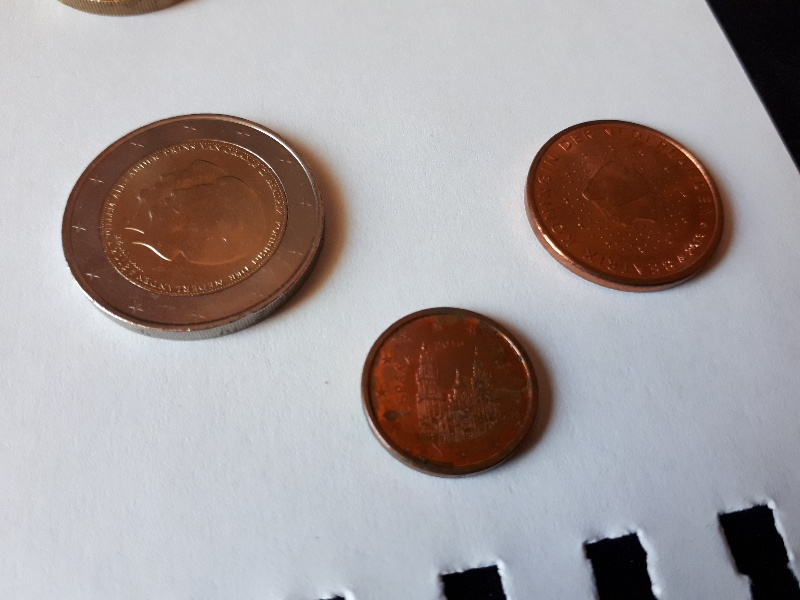2 cent: (359, 300, 550, 484)
2 euro: (56, 108, 338, 349)
5 cent: (520, 118, 730, 297)
